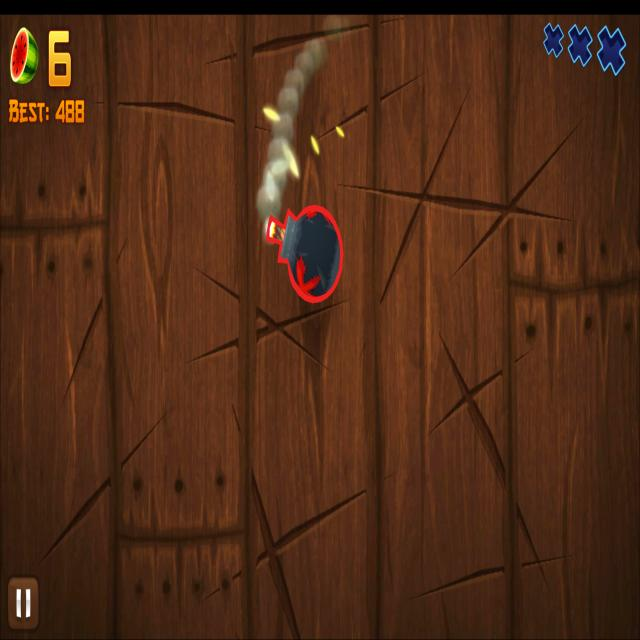bomb: (267, 203, 343, 304)
